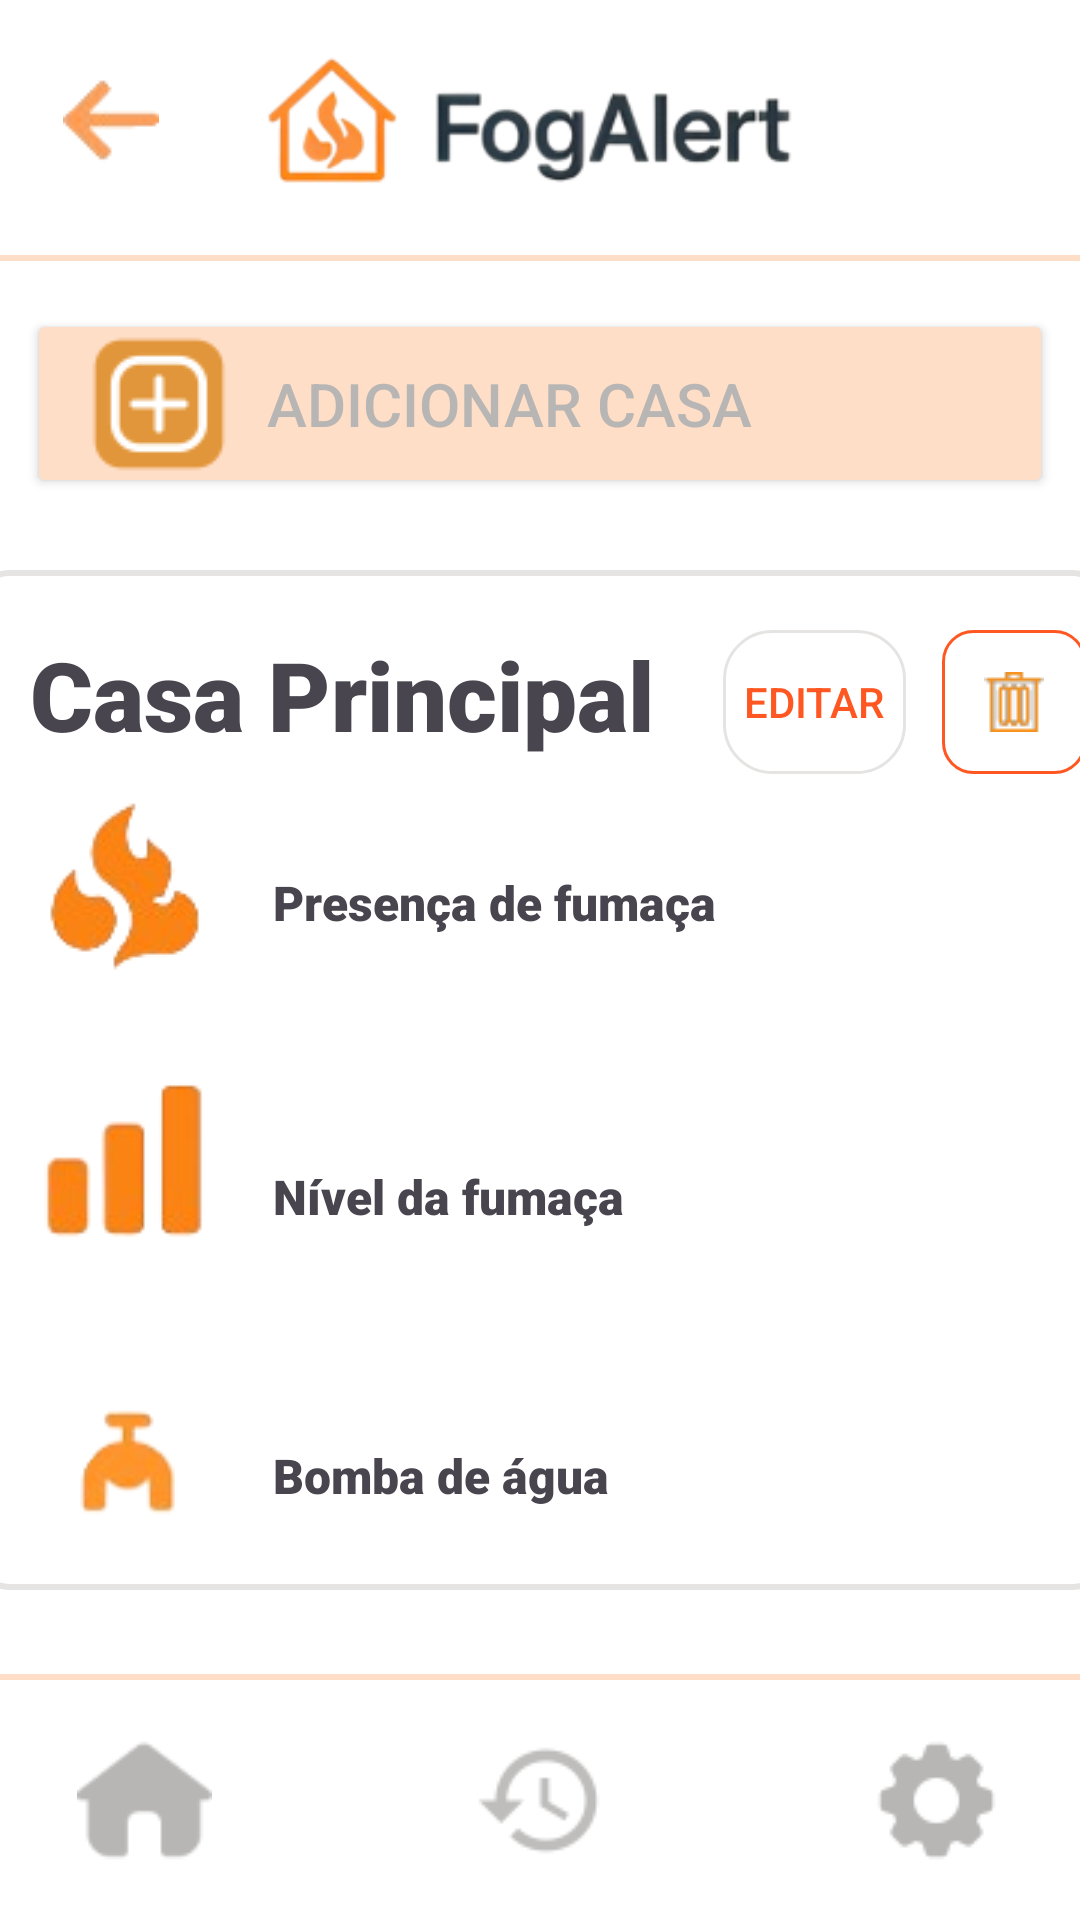

Where icons sit on this 1080×1920 app screen, as (x1, y1, x2, y2):
Configurações: (880, 1744, 993, 1857)
Histórico: (480, 1750, 597, 1851)
Home: (77, 1743, 212, 1857)
lixeirinha: (942, 630, 1080, 774)
nivel: (47, 1085, 202, 1236)
volta: (63, 80, 159, 160)
